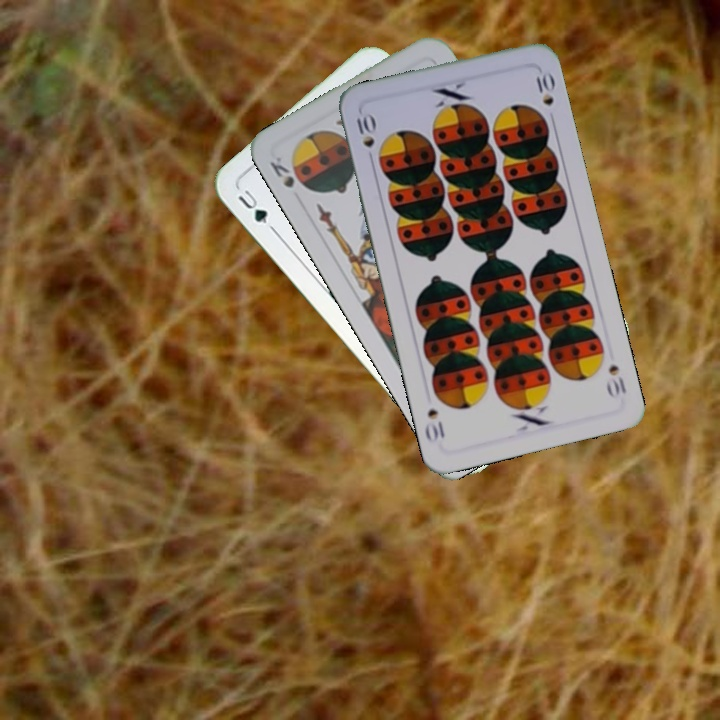GU: (233, 185, 277, 234)
S10: (352, 108, 379, 167), (604, 360, 629, 397)
SK: (265, 152, 297, 191)
